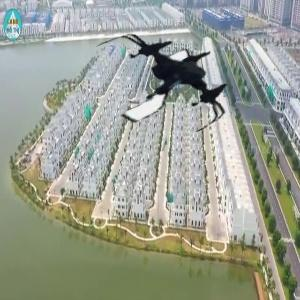drone: (96, 17, 229, 150)
